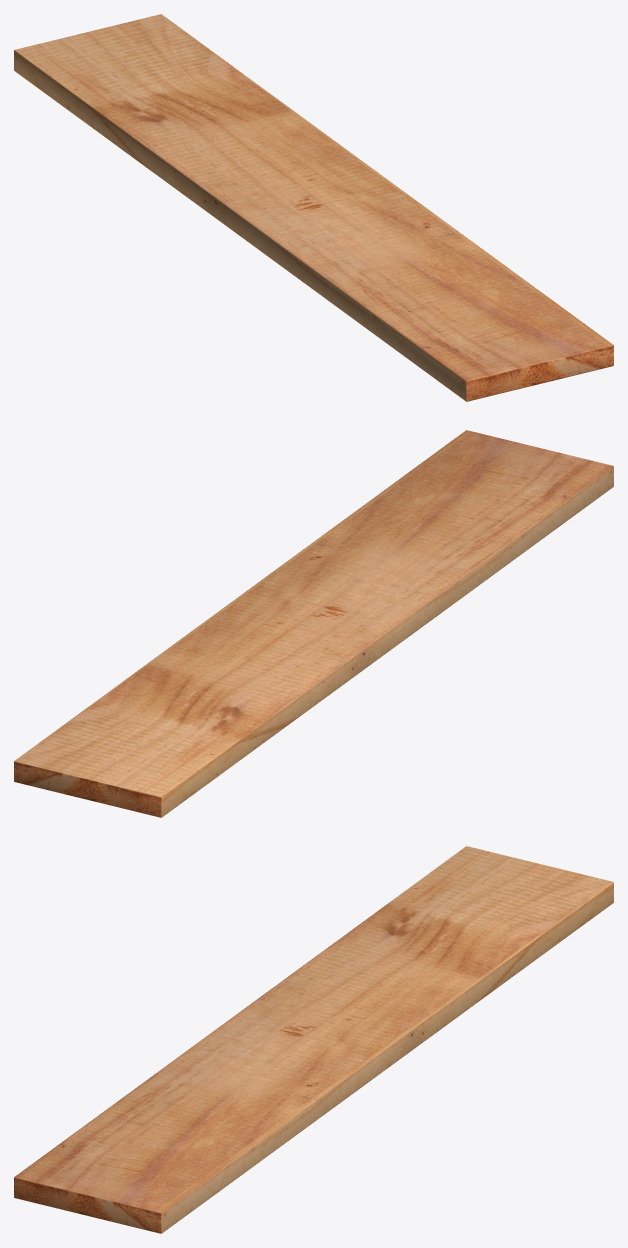
The model's file is wood.obj.
3 renders of one model, top to bottom at view 1: azimuth 30°, elevation 25°; view 2: azimuth 150°, elevation 25°; view 3: azimuth 330°, elevation 25°, orthographic.
Visible parts, largest first — view 1: Cube.002; view 2: Cube.002; view 3: Cube.002.
Boxes of the visible parts, x1,y1,x2,y2 form: Cube.002: (14, 14, 613, 401); Cube.002: (14, 430, 613, 817); Cube.002: (14, 846, 613, 1233).
Bounding box in the file's own units: 19.09 × 2.62 × 101.
Materials: 1 (1 with a texture image).
